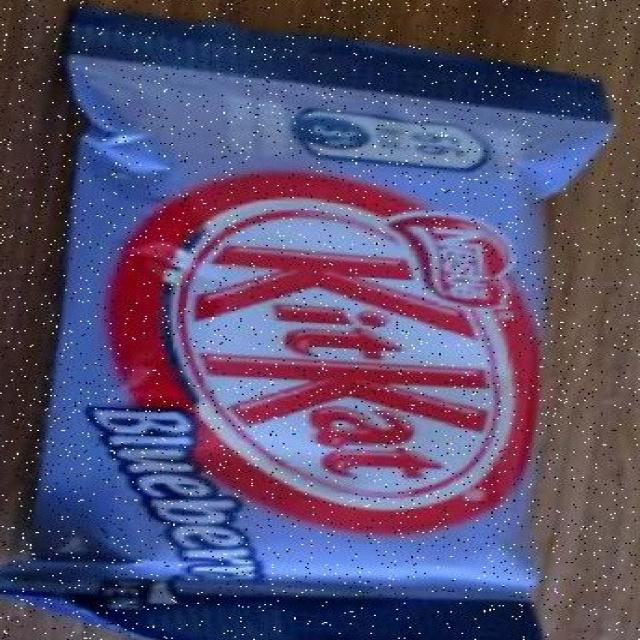Dry: (19, 0, 616, 640)
